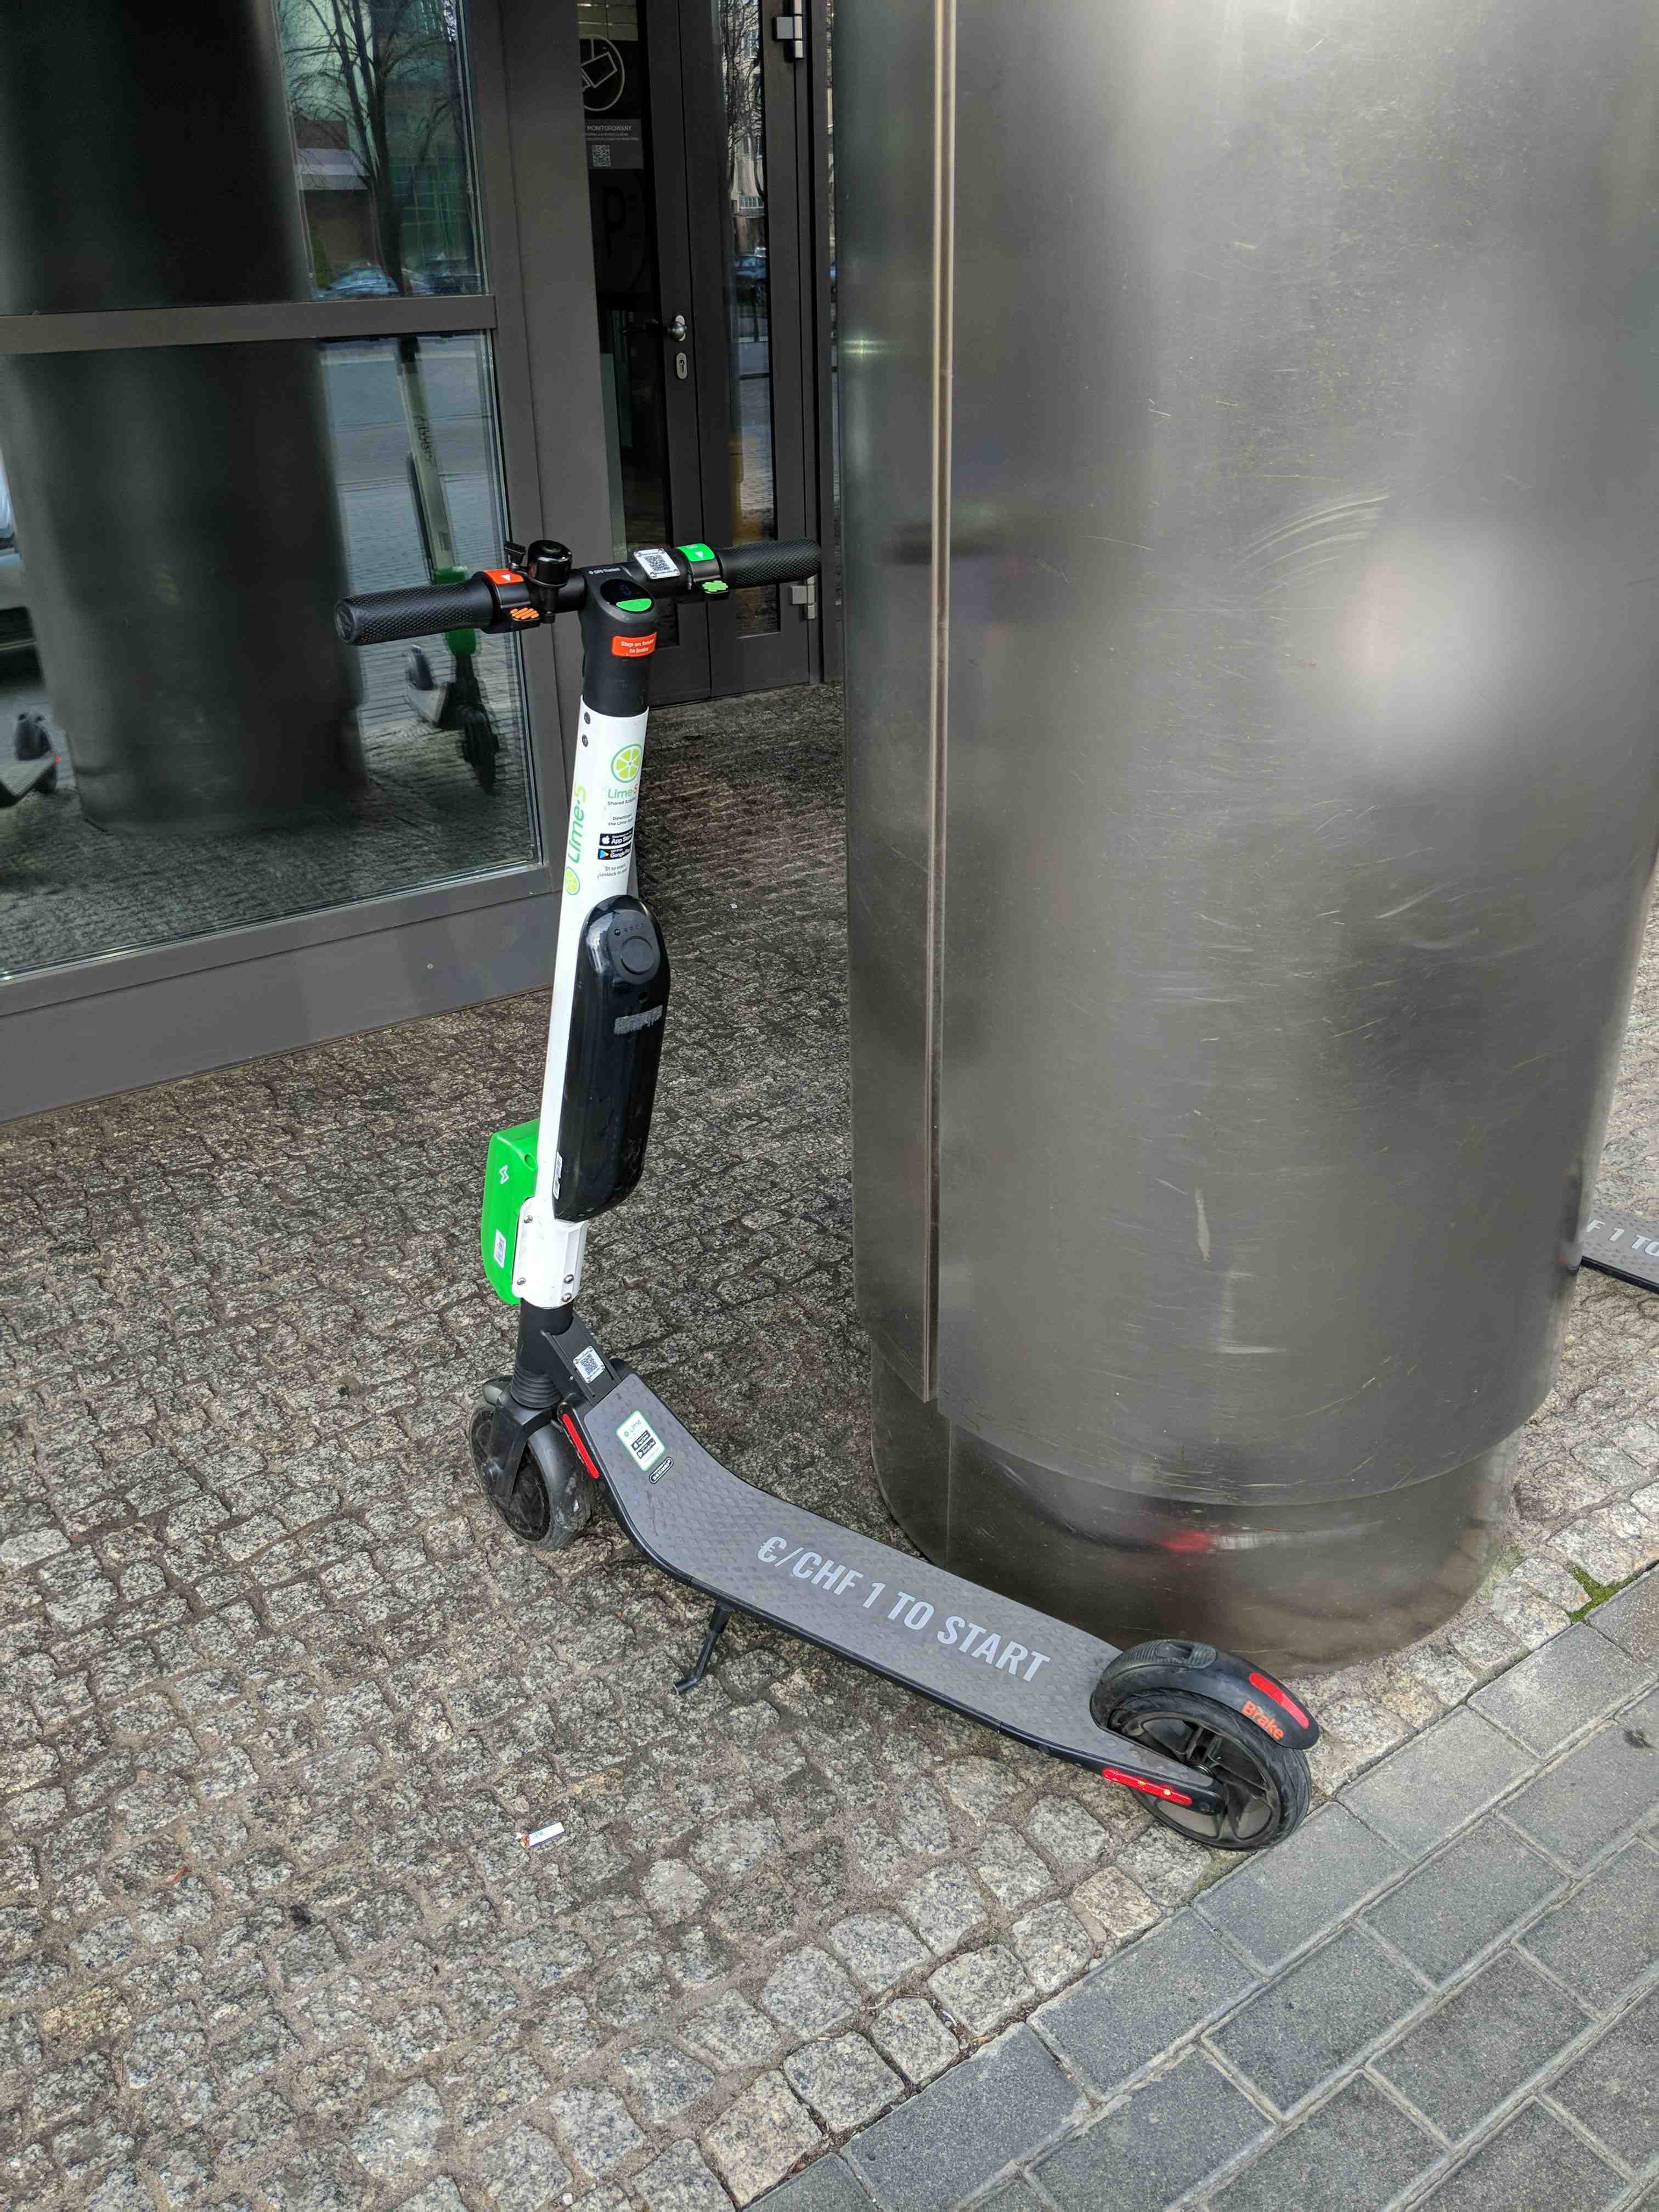scooter: (361, 519, 1347, 1864)
